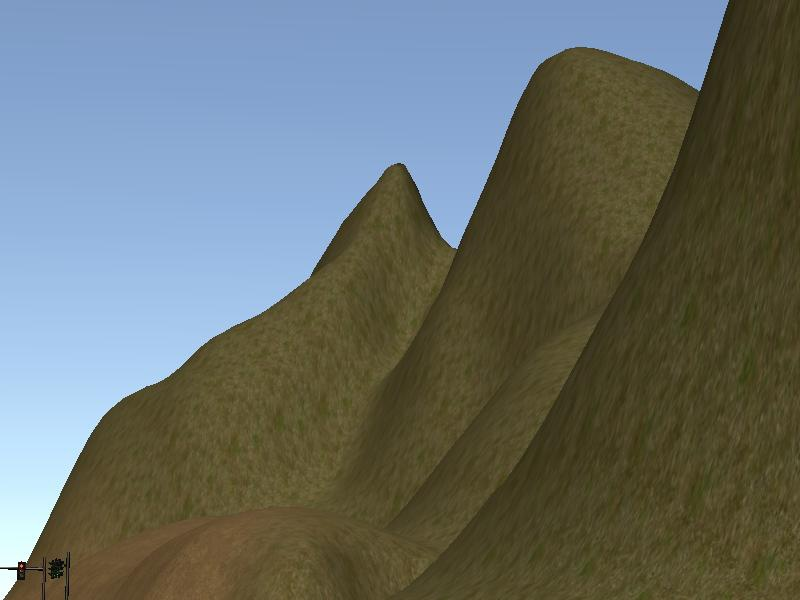Red: (15, 560, 25, 584)
